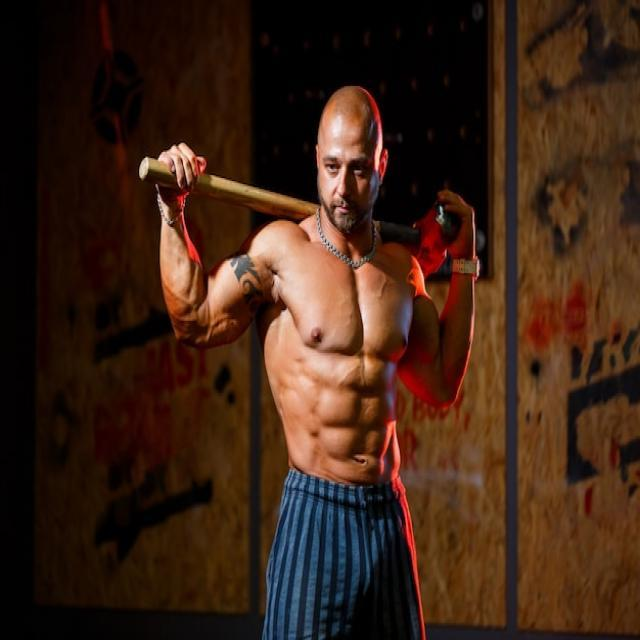hammer: (133, 156, 470, 292)
